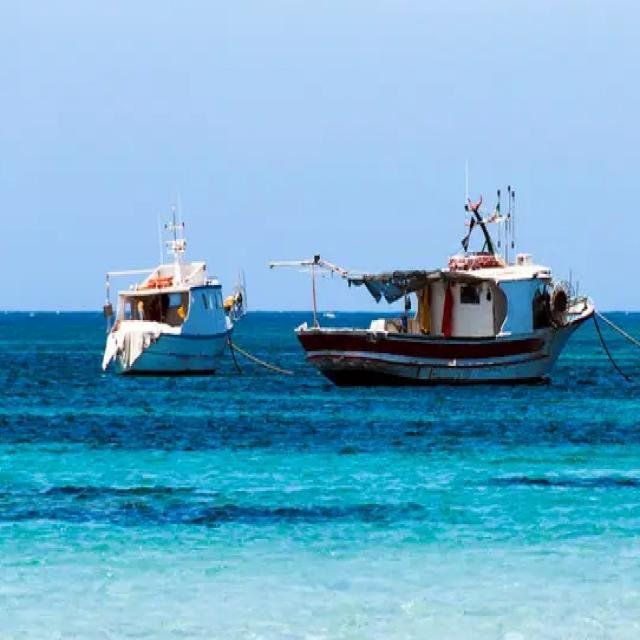fishing boat: (284, 170, 594, 387), (91, 207, 244, 377)
